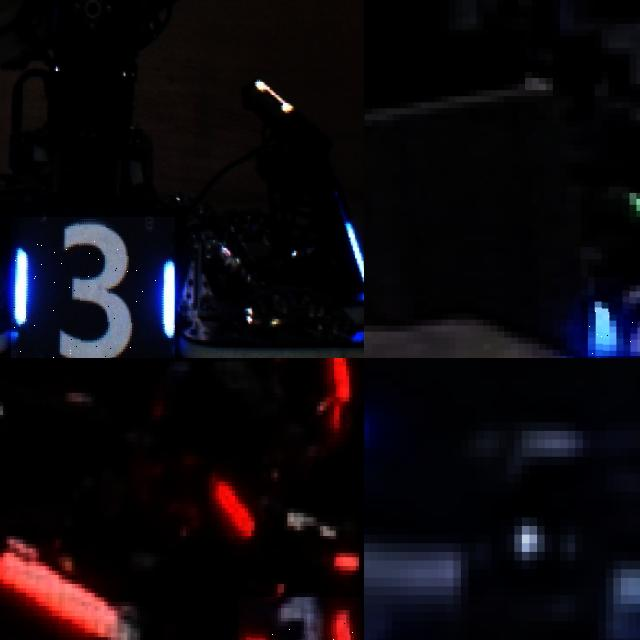B2: (587, 277, 640, 355)
B3: (11, 217, 175, 358)
R3: (238, 597, 362, 640)
